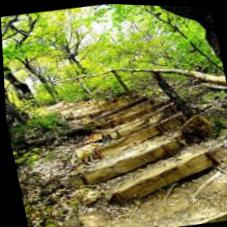Bench: (63, 104, 227, 205)
